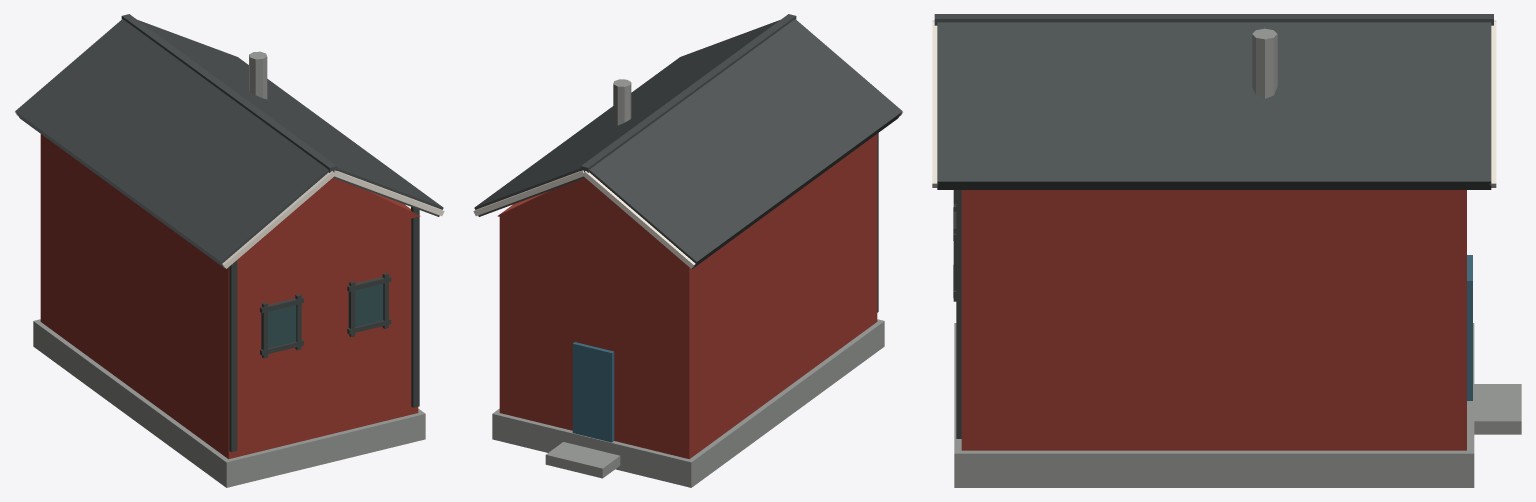
The model's file is norway-house-red-dark_lod0.glb.
The picture shows the model from 3 angles, left to right: view 1: azimuth 30°, elevation 25°; view 2: azimuth 150°, elevation 25°; view 3: azimuth 270°, elevation 25°; orthographic projection. The views are drawn at different scales.
Visible parts, largest first — view 1: RF_House_Walls, RF_House_RoofA, RF_House_Foundation, RF_House_RoofB, RF_House_Gables, RF_House_RidgeCap, RF_House_Corner.001, RF_House_Corner, RF_House_WindowRecess.001, RF_House_WindowRecess, RF_House_VergeLeftFront, RF_House_Chimney (+1 smaller); view 2: RF_House_Walls, RF_House_RoofA, RF_House_Foundation, RF_House_RoofB, RF_House_Gables, RF_House_Door, RF_House_RidgeCap, RF_House_Threshold, RF_House_VergeLeftRear, RF_House_Chimney, RF_House_VergeRightRear; view 3: RF_House_Walls, RF_House_RoofB, RF_House_Foundation, RF_House_RidgeCap, RF_House_Threshold, RF_House_Chimney, RF_House_Corner.001, RF_House_VergeRightRear, RF_House_VergeRightFront, RF_House_Door.
Part boxes in pixels (x1=…): RF_House_Walls: x1=40, y1=134, x2=418, y2=459; RF_House_RoofA: x1=15, y1=19, x2=328, y2=268; RF_House_Foundation: x1=33, y1=319, x2=425, y2=487; RF_House_RoofB: x1=138, y1=20, x2=443, y2=216; RF_House_Gables: x1=236, y1=178, x2=420, y2=261; RF_House_RidgeCap: x1=121, y1=14, x2=337, y2=172; RF_House_Corner.001: x1=411, y1=207, x2=419, y2=407; RF_House_Corner: x1=229, y1=261, x2=237, y2=452; RF_House_WindowRecess.001: x1=348, y1=277, x2=383, y2=327; RF_House_WindowRecess: x1=261, y1=298, x2=296, y2=349; RF_House_VergeLeftFront: x1=222, y1=171, x2=334, y2=268; RF_House_Chimney: x1=249, y1=51, x2=267, y2=99; RF_House_Walls: x1=499, y1=134, x2=877, y2=459; RF_House_RoofA: x1=589, y1=19, x2=902, y2=268; RF_House_Foundation: x1=492, y1=319, x2=884, y2=487; RF_House_RoofB: x1=474, y1=20, x2=779, y2=216; RF_House_Gables: x1=497, y1=178, x2=681, y2=261; RF_House_Door: x1=572, y1=342, x2=614, y2=442; RF_House_RidgeCap: x1=580, y1=14, x2=796, y2=172; RF_House_Threshold: x1=545, y1=442, x2=620, y2=478; RF_House_VergeLeftRear: x1=582, y1=171, x2=695, y2=268; RF_House_Chimney: x1=613, y1=79, x2=631, y2=126; RF_House_VergeRightRear: x1=473, y1=170, x2=584, y2=215; RF_House_Walls: x1=961, y1=190, x2=1466, y2=450; RF_House_RoofB: x1=937, y1=22, x2=1491, y2=189; RF_House_Foundation: x1=954, y1=323, x2=1474, y2=487; RF_House_RidgeCap: x1=934, y1=14, x2=1493, y2=25; RF_House_Threshold: x1=1474, y1=384, x2=1521, y2=434; RF_House_Chimney: x1=1252, y1=28, x2=1277, y2=98; RF_House_Corner.001: x1=956, y1=190, x2=961, y2=438; RF_House_VergeRightRear: x1=1489, y1=22, x2=1496, y2=187; RF_House_VergeRightFront: x1=932, y1=22, x2=937, y2=187; RF_House_Door: x1=1467, y1=255, x2=1472, y2=400.
Size of the model in its own units: 8.21 by 11 by 14.
